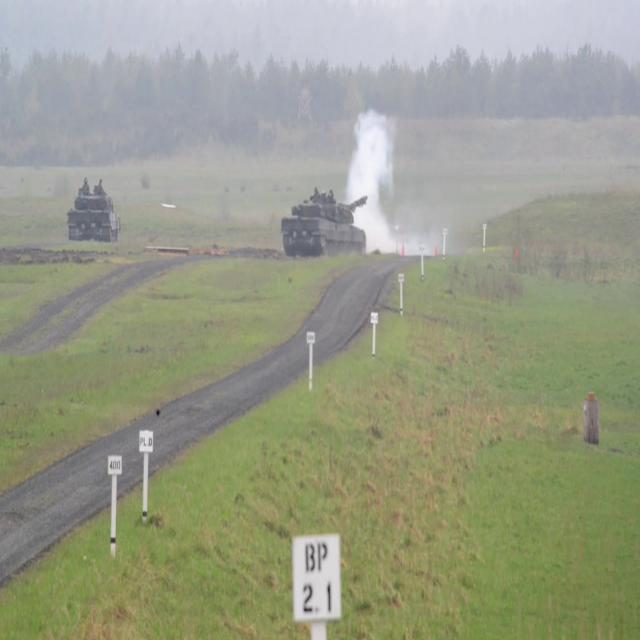tank: (281, 188, 368, 258), (67, 190, 121, 244)
